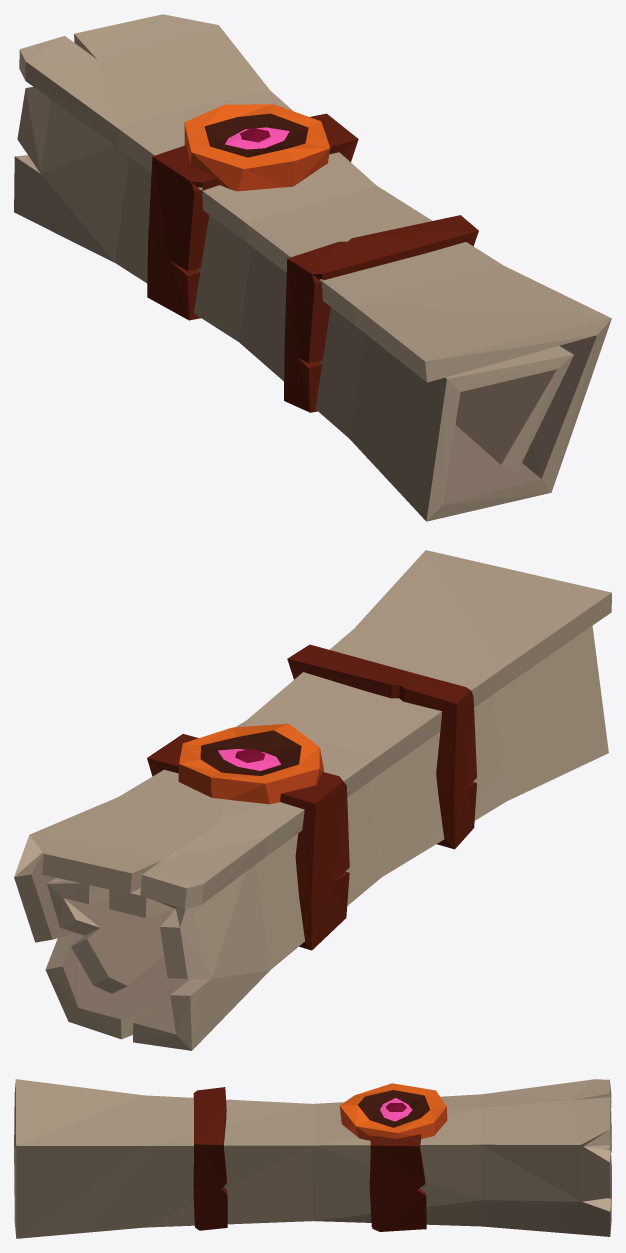
The model's file is Magical_Scroll.glb.
3 views of the same model, one above another, from view 1: azimuth 30°, elevation 25°; view 2: azimuth 150°, elevation 25°; view 3: azimuth 270°, elevation 25° (orthographic). The views are drawn at different scales.
Visible parts, largest first — view 1: PapyrusFantasy; view 2: PapyrusFantasy; view 3: PapyrusFantasy.
Boxes of the visible parts, <box> form: PapyrusFantasy: <box>14,14,611,521</box>; PapyrusFantasy: <box>14,550,611,1050</box>; PapyrusFantasy: <box>14,1079,611,1238</box>.
Size of what is drawn, in the model's own units: 0.1458 by 0.1287 by 0.5576.
2 materials, 2 textured.
